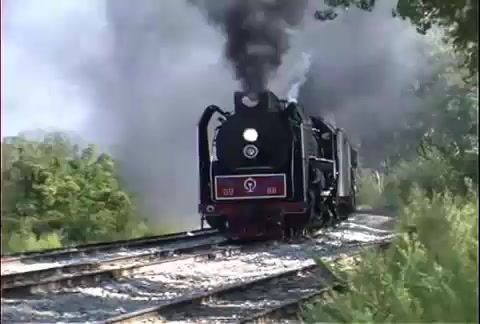train: (197, 90, 359, 244)
